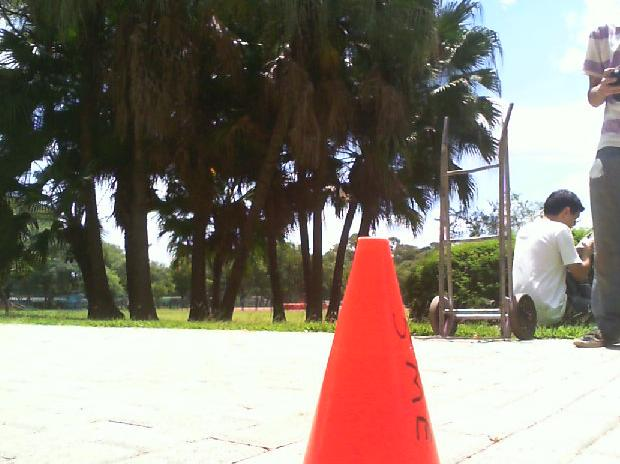0 cone: (300, 237, 442, 464)
